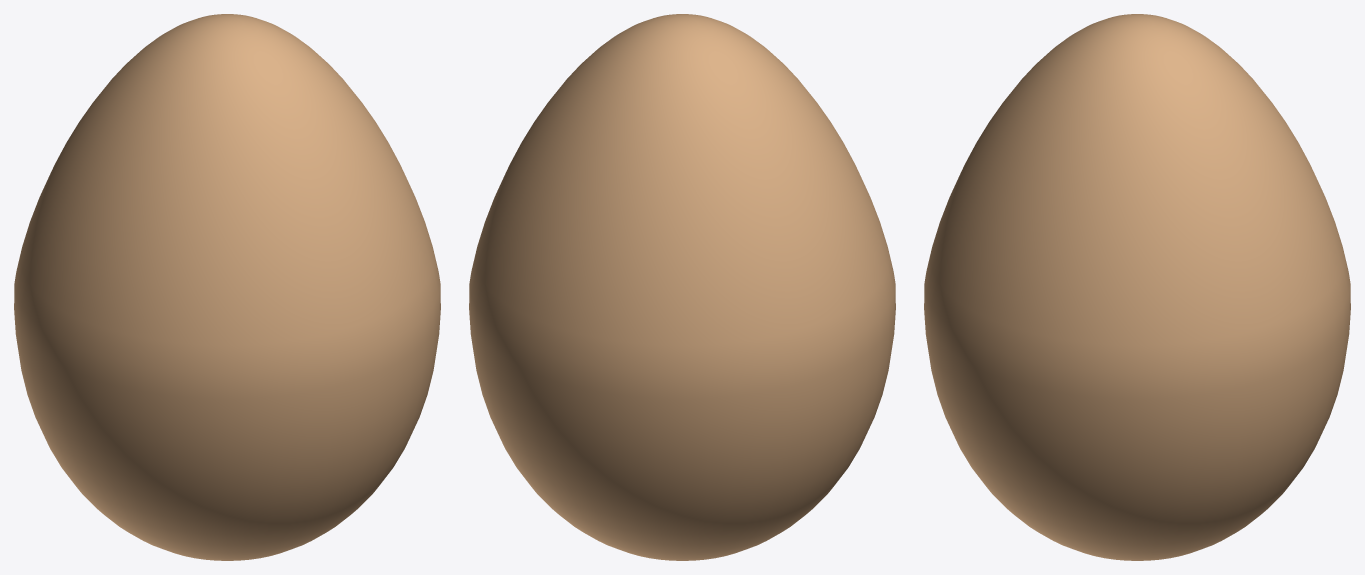
The model's file is egg-brown.glb.
3 renders of one model, left to right at view 1: azimuth 30°, elevation 25°; view 2: azimuth 150°, elevation 25°; view 3: azimuth 270°, elevation 25°, orthographic.
Parts seen in each view (by area): view 1: Egg_Brown; view 2: Egg_Brown; view 3: Egg_Brown.
Part boxes in pixels (left/top/right/bottom): Egg_Brown: left=14, top=14, right=440, bottom=560; Egg_Brown: left=469, top=14, right=895, bottom=560; Egg_Brown: left=924, top=14, right=1350, bottom=560.
Bounding box in the file's own units: 1.5 × 2.03 × 1.5.
